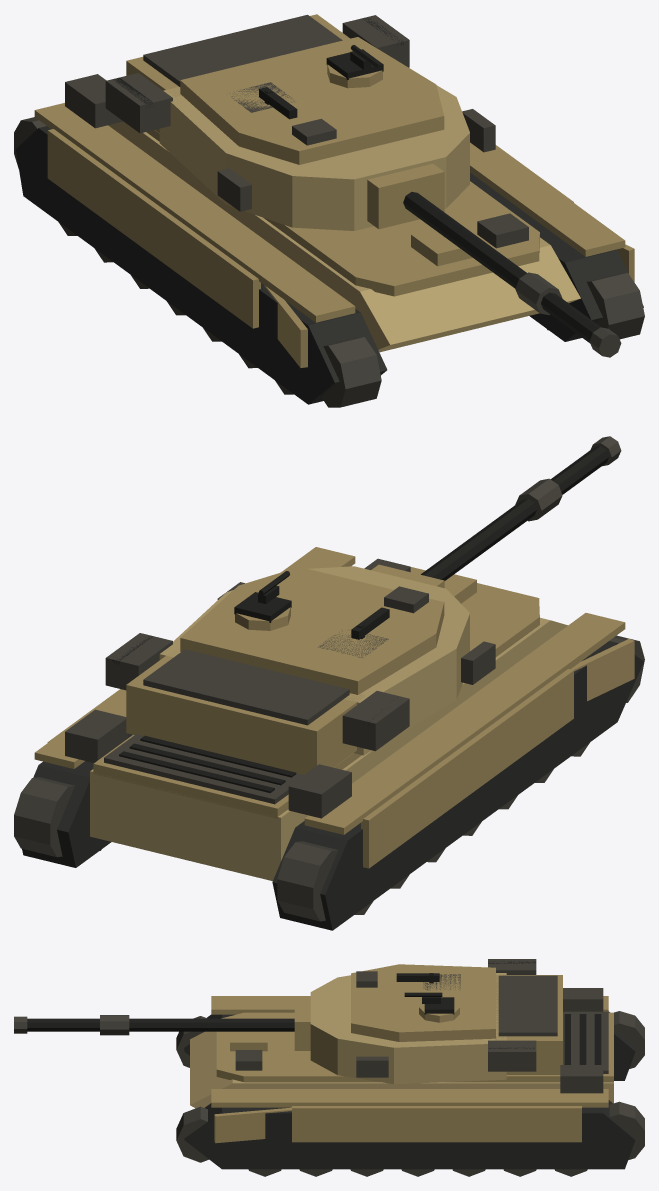
File: m1-abrams.fbx
3 renders of one model, top to bottom at view 1: azimuth 30°, elevation 25°; view 2: azimuth 150°, elevation 25°; view 3: azimuth 270°, elevation 25°, orthographic. The views are drawn at different scales.
Parts seen in each view (by area): view 1: Techo_arena_osc, Cuerpo_arena, Oruga_Izq_oscuro, Casco_arena, Faldon_Izq_arena_osc, Guardabarros_Izq_arena_osc, Cubierta_arena_osc, Guardabarros_Der_arena_osc, Bustle_medio, Ruedas_Izq_medio, Tubo120mm_acero, Oruga_Der_oscuro (+17 smaller); view 2: Techo_arena_osc, Casco_arena, Oruga_Izq_oscuro, Faldon_Izq_arena_osc, Guardabarros_Izq_arena_osc, Bustle_arena_osc, Bustle_medio, Cuerpo_arena, Cubierta_arena_osc, Ruedas_Izq_medio, DeckMotor_medio, Tubo120mm_acero (+13 smaller); view 3: Oruga_Der_oscuro, Faldon_Der_arena_osc, Cuerpo_arena, Techo_arena_osc, Guardabarros_Der_arena_osc, Cubierta_arena_osc, Casco_arena, Bustle_medio, Tubo120mm_acero, Ruedas_Der_medio, Bustle_arena_osc, Guardabarros_Izq_arena_osc (+18 smaller).
Boxes of the visible parts, x1,y1,x2,y2 form: Techo_arena_osc: [180, 37, 444, 164]; Cuerpo_arena: [159, 85, 469, 230]; Oruga_Izq_oscuro: [15, 126, 387, 404]; Casco_arena: [108, 121, 580, 352]; Faldon_Izq_arena_osc: [47, 129, 307, 367]; Guardabarros_Izq_arena_osc: [34, 103, 355, 322]; Cubierta_arena_osc: [146, 130, 539, 296]; Guardabarros_Der_arena_osc: [470, 142, 625, 256]; Bustle_medio: [143, 14, 342, 86]; Ruedas_Izq_medio: [14, 117, 381, 407]; Tubo120mm_acero: [403, 192, 600, 342]; Oruga_Der_oscuro: [470, 172, 643, 341]; Techo_arena_osc: [180, 567, 444, 694]; Casco_arena: [90, 617, 567, 881]; Oruga_Izq_oscuro: [272, 641, 643, 930]; Faldon_Izq_arena_osc: [361, 639, 634, 868]; Guardabarros_Izq_arena_osc: [304, 613, 625, 834]; Bustle_arena_osc: [126, 649, 365, 774]; Bustle_medio: [143, 649, 349, 725]; Cuerpo_arena: [159, 566, 469, 755]; Cubierta_arena_osc: [93, 567, 539, 818]; Ruedas_Izq_medio: [277, 635, 644, 921]; DeckMotor_medio: [104, 734, 303, 804]; Tubo120mm_acero: [421, 446, 608, 580]; Oruga_Der_oscuro: [184, 1100, 635, 1169]; Faldon_Der_arena_osc: [214, 1106, 581, 1143]; Cuerpo_arena: [310, 973, 506, 1084]; Techo_arena_osc: [351, 964, 495, 1041]; Guardabarros_Der_arena_osc: [211, 1089, 608, 1107]; Cubierta_arena_osc: [216, 1012, 613, 1082]; Casco_arena: [190, 1031, 613, 1108]; Bustle_medio: [498, 975, 557, 1036]; Tubo120mm_acero: [27, 1018, 294, 1031]; Ruedas_Der_medio: [176, 1101, 644, 1176]; Bustle_arena_osc: [495, 975, 562, 1074]; Guardabarros_Izq_arena_osc: [211, 996, 608, 1014].
Size of the model in its own units: 5.08 by 3.05 by 11.75.
